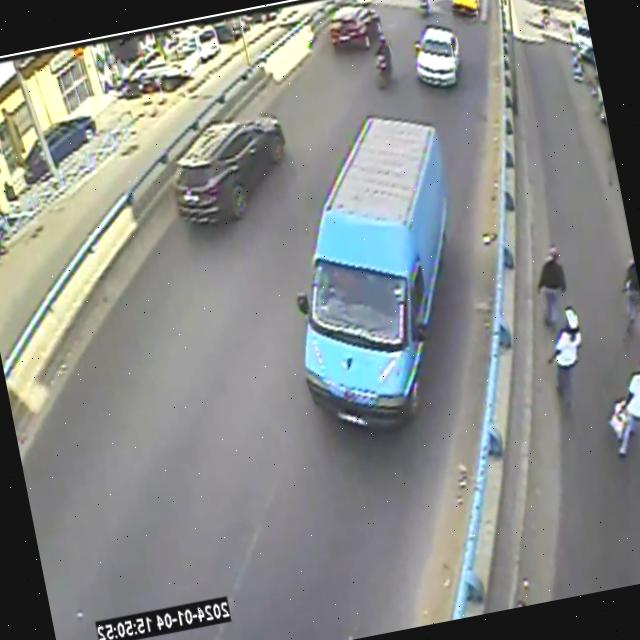car: (297, 116, 449, 426), (176, 113, 286, 223), (415, 25, 461, 85), (329, 5, 382, 51), (453, 0, 481, 15)
